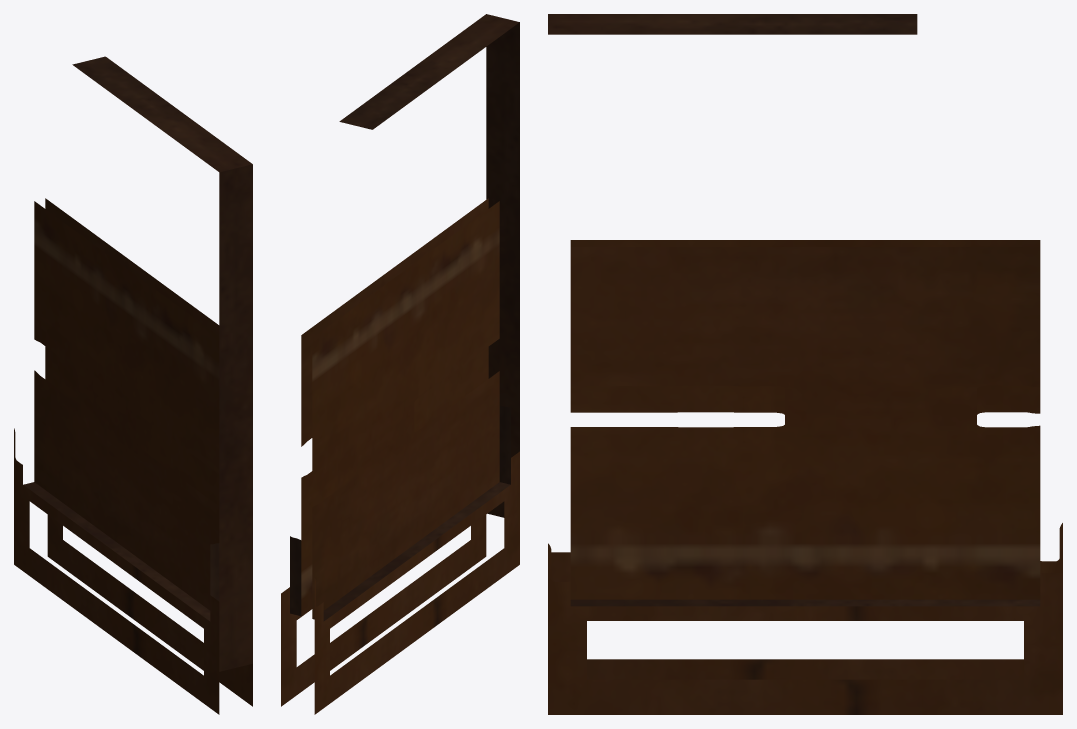
Rendered from Plain_Wall_Slide.fbx.
The picture shows the model from 3 angles, left to right: view 1: azimuth 30°, elevation 25°; view 2: azimuth 150°, elevation 25°; view 3: azimuth 270°, elevation 25°; orthographic projection. The views are drawn at different scales.
Visible parts, largest first — view 1: Plain_Wall_Slide; view 2: Plain_Wall_Slide; view 3: Plain_Wall_Slide.
Boxes of the visible parts, box(x1,y1,x2,y2) form: Plain_Wall_Slide: box(14, 56, 252, 714); Plain_Wall_Slide: box(281, 14, 519, 714); Plain_Wall_Slide: box(548, 14, 1062, 714).
Size of the model in its own units: 3 by 46.42 by 31.83.
